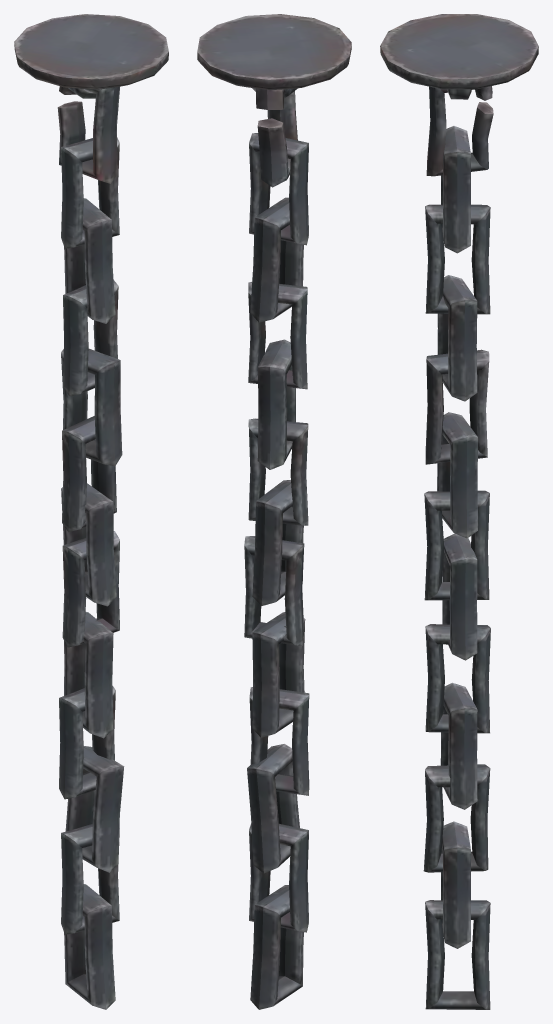
The picture shows the model from 3 angles, left to right: view 1: azimuth 30°, elevation 25°; view 2: azimuth 150°, elevation 25°; view 3: azimuth 270°, elevation 25°; orthographic projection.
Parts seen in each view (by area): view 1: SM_Temple_Chandelier_01v4_LOD0; view 2: SM_Temple_Chandelier_01v4_LOD0; view 3: SM_Temple_Chandelier_01v4_LOD0.
Boxes of the visible parts, x1,y1,x2,y2 form: SM_Temple_Chandelier_01v4_LOD0: [14, 14, 168, 1009]; SM_Temple_Chandelier_01v4_LOD0: [197, 14, 351, 1009]; SM_Temple_Chandelier_01v4_LOD0: [380, 14, 538, 1009].
Bounding box in the file's own units: 0.2898 × 2 × 0.2978.
